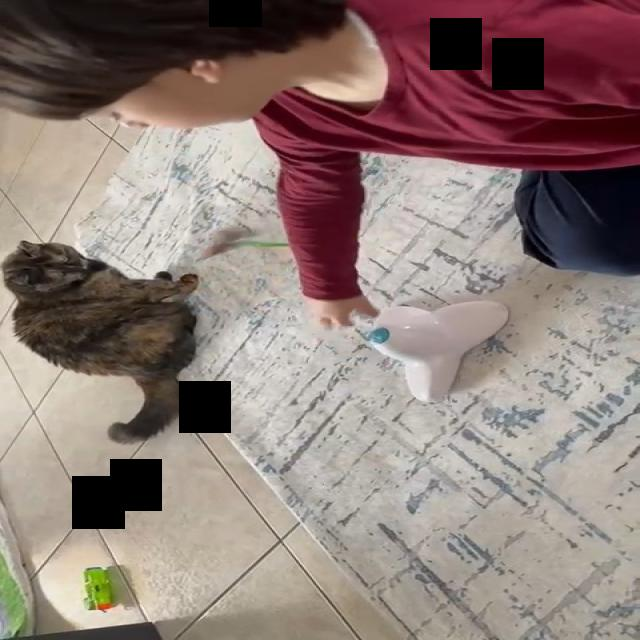authorized: (0, 239, 200, 445)
